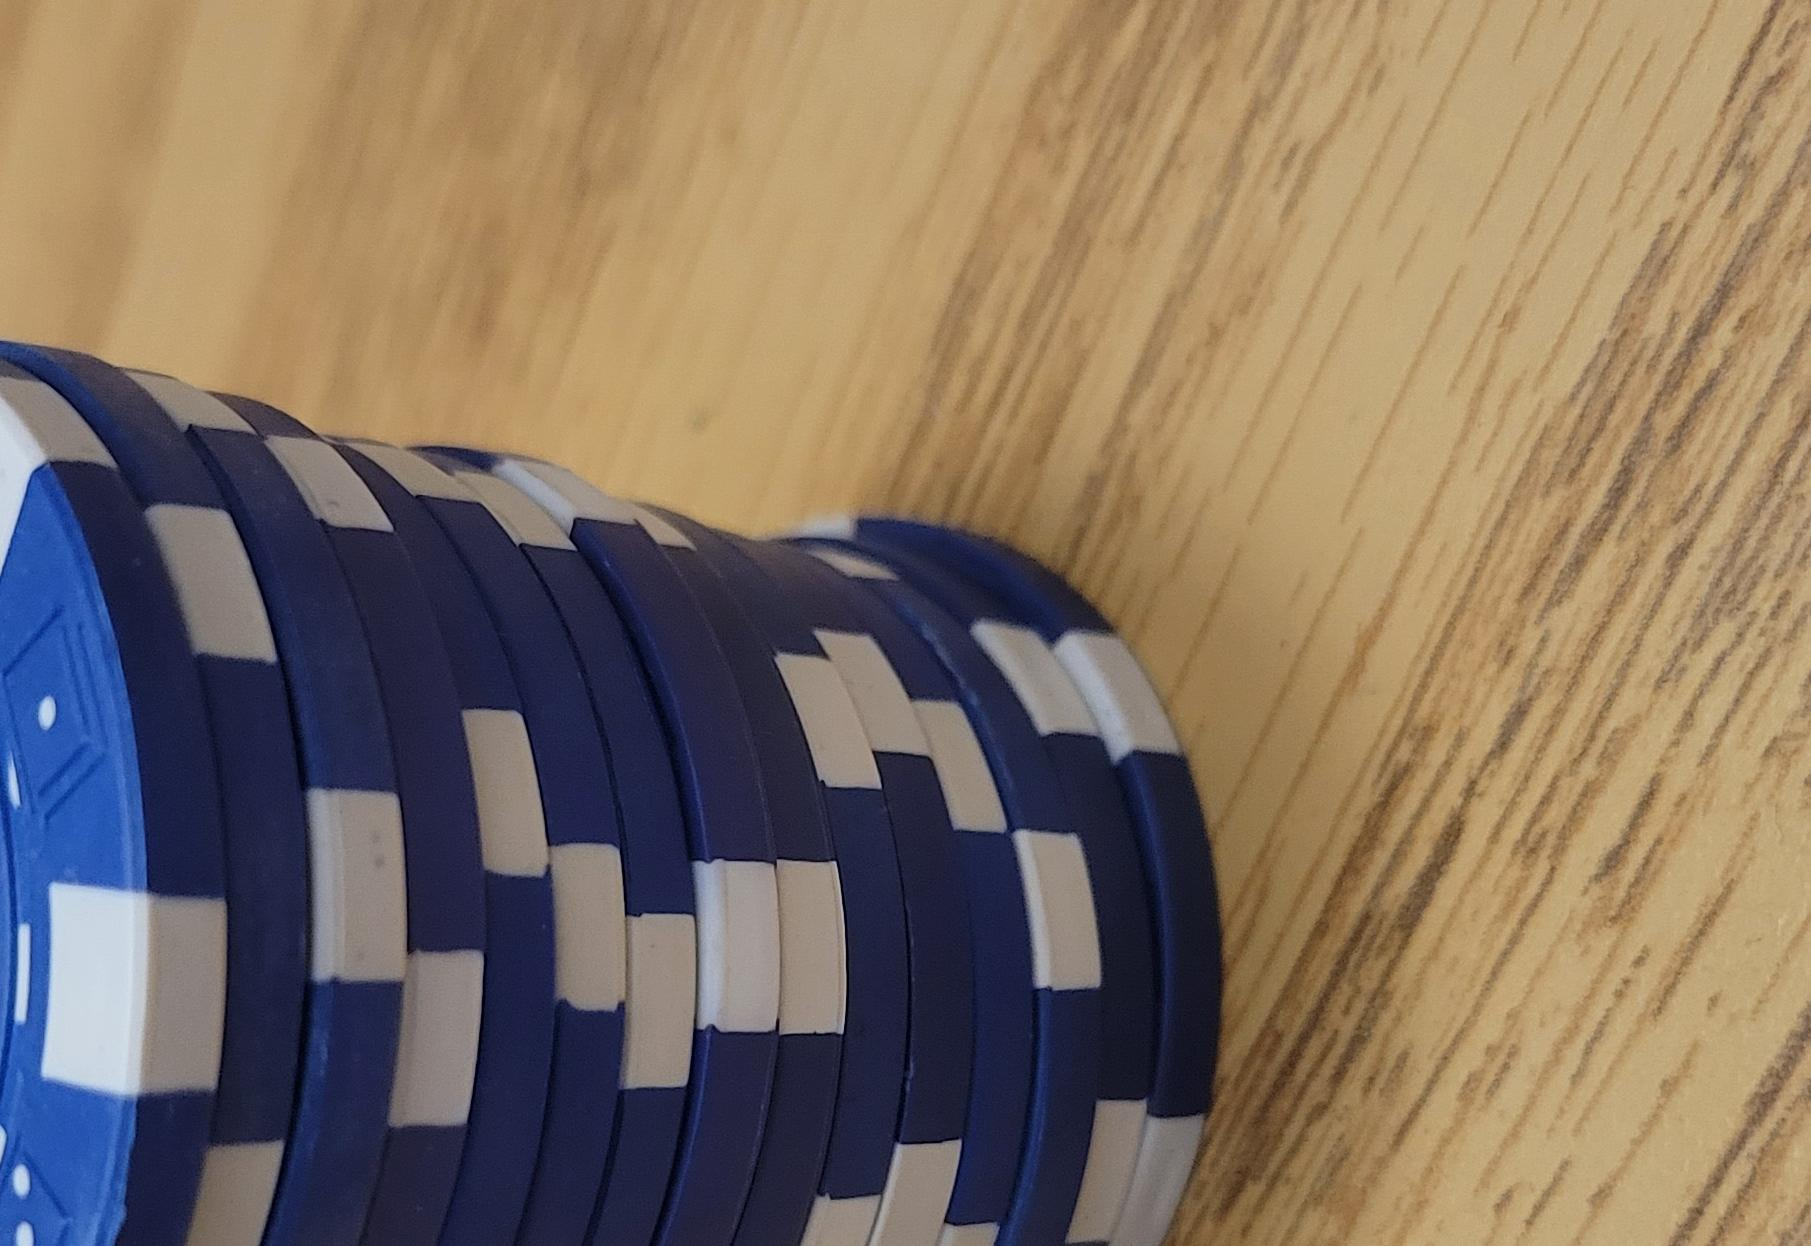Chip: (1, 175, 1072, 1246)
